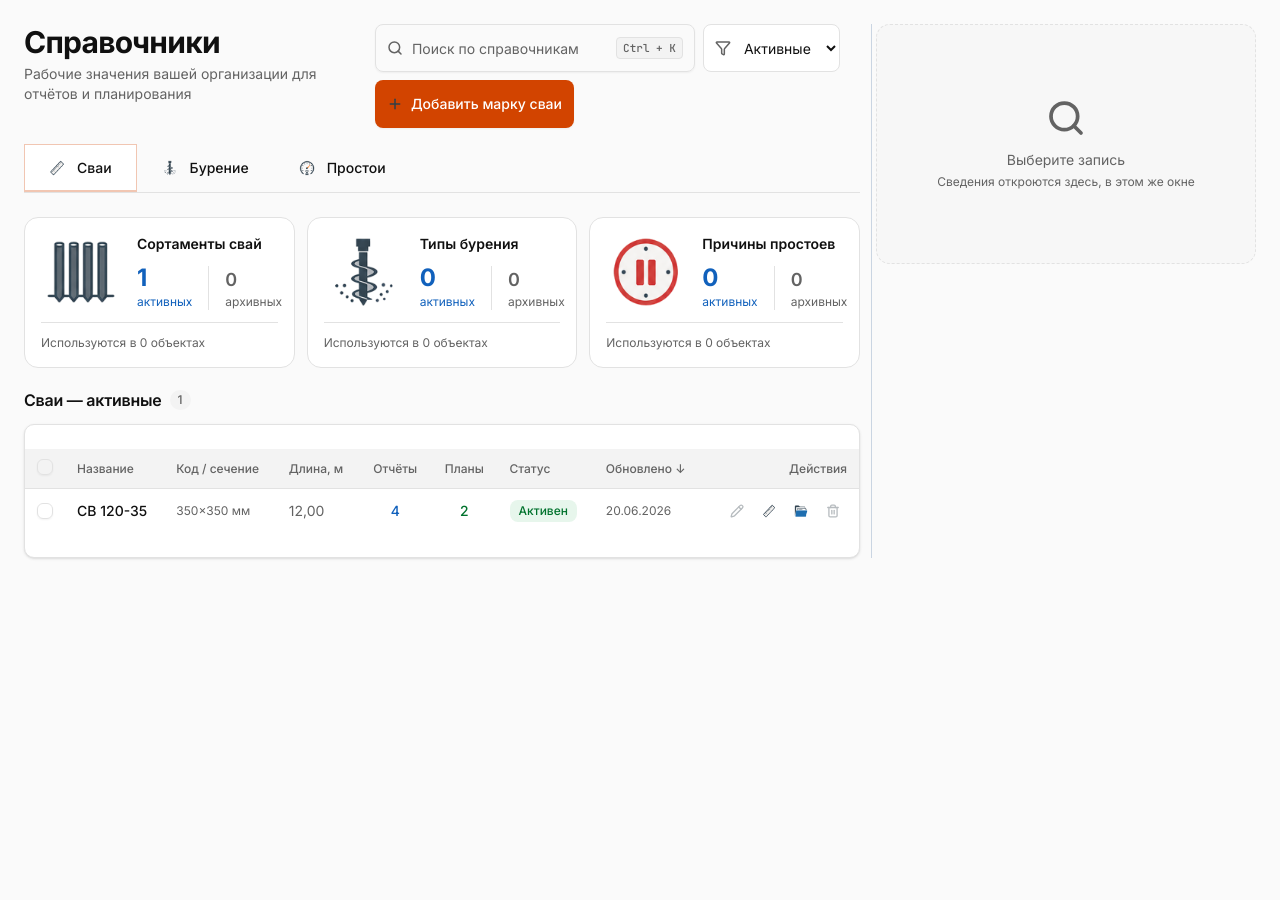
Test: AdminDictionaries › requires an explicit positive pile length when creating a grade
The image size is (1280, 900).
Check: the text "СВ 120-35" is shown, box left=65, top=488, right=164, bottom=533
Click the button "Добавить марку сваи" at (474, 104), box left=375, top=80, right=574, bottom=128
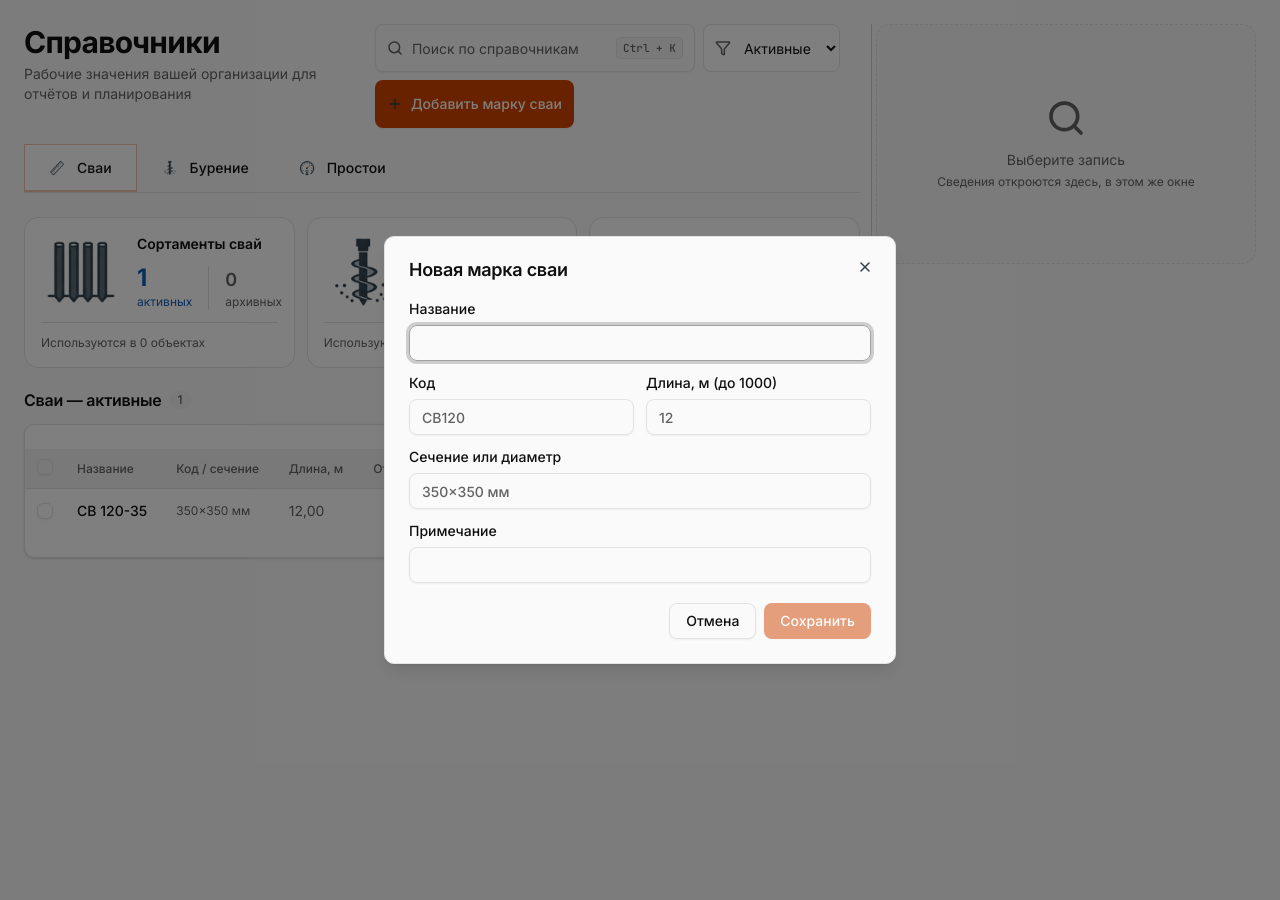
Type "СВ 150-50" into the field labelled "Название" at (640, 343), box left=409, top=325, right=871, bottom=361
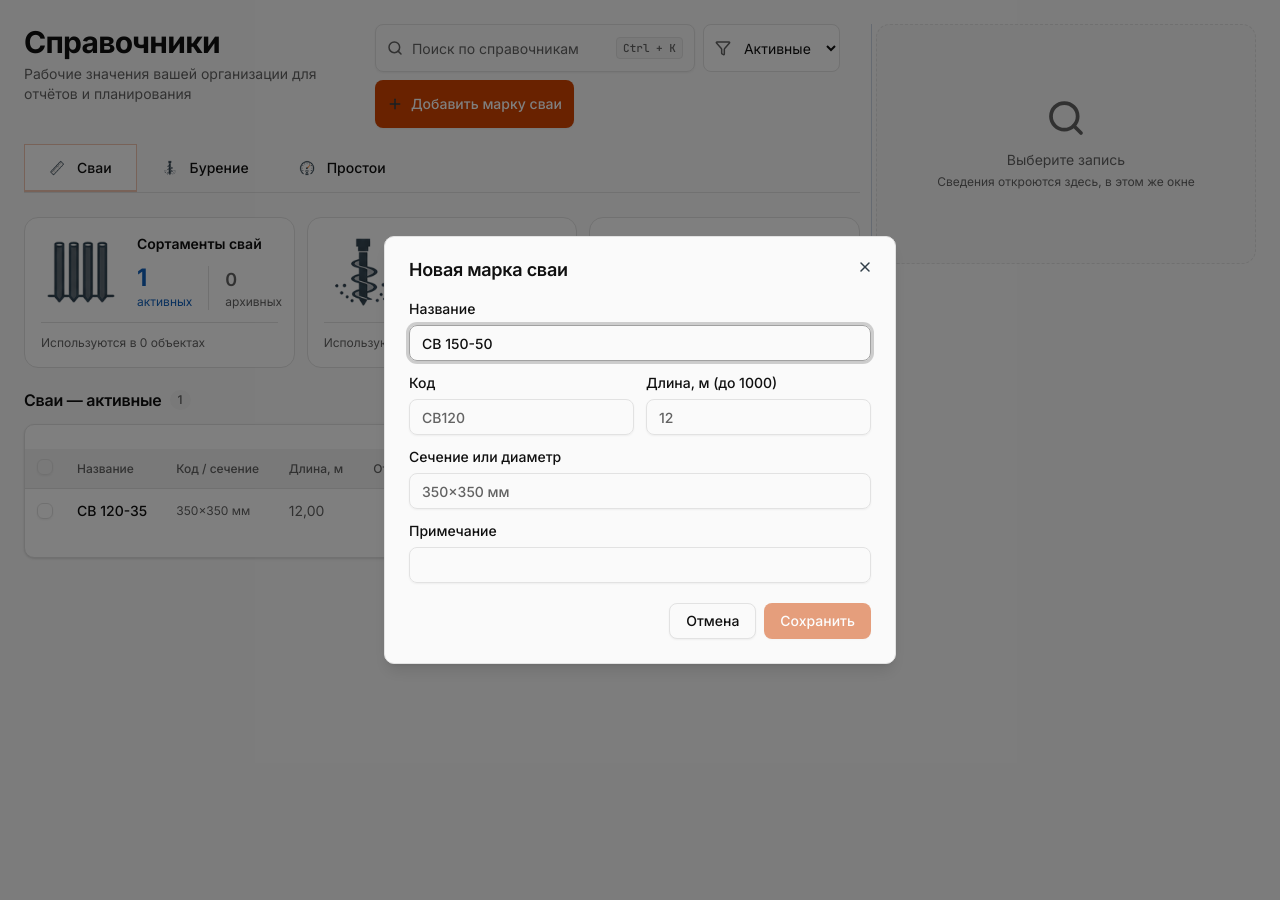
Check: the button "Сохранить" is disabled, box left=764, top=603, right=871, bottom=639
Type "15" into the field labelled "Длина, м" at (758, 417), box left=646, top=399, right=871, bottom=435
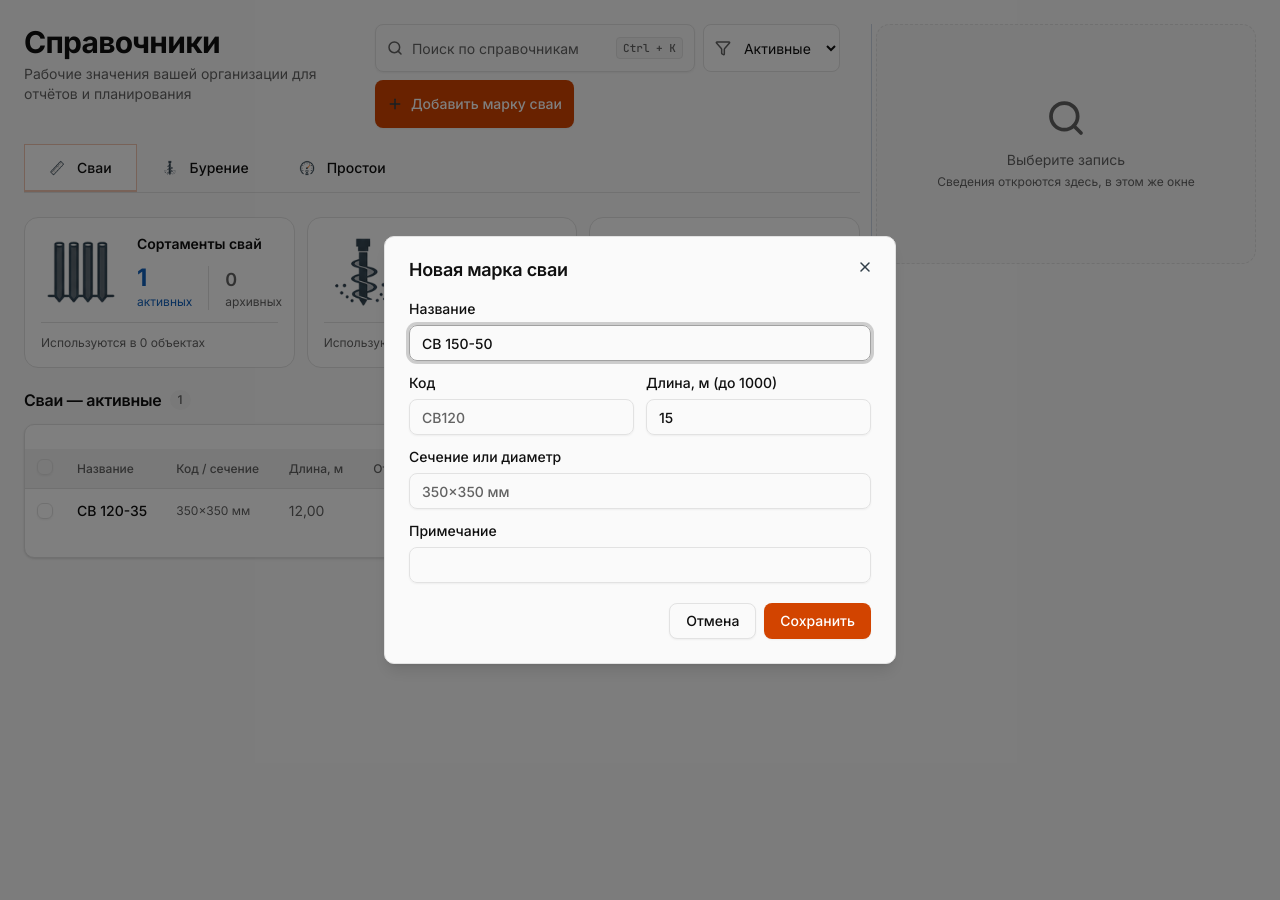
Check: the button "Сохранить" is enabled, box left=764, top=603, right=871, bottom=639
